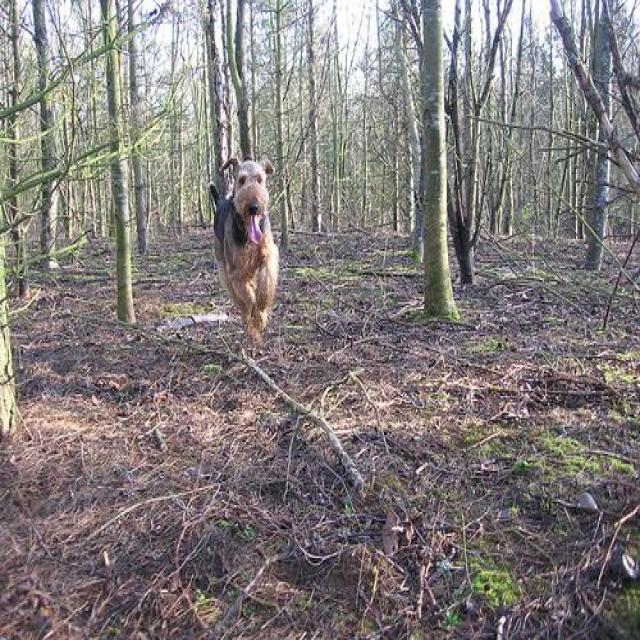airedale: (202, 147, 282, 353)
